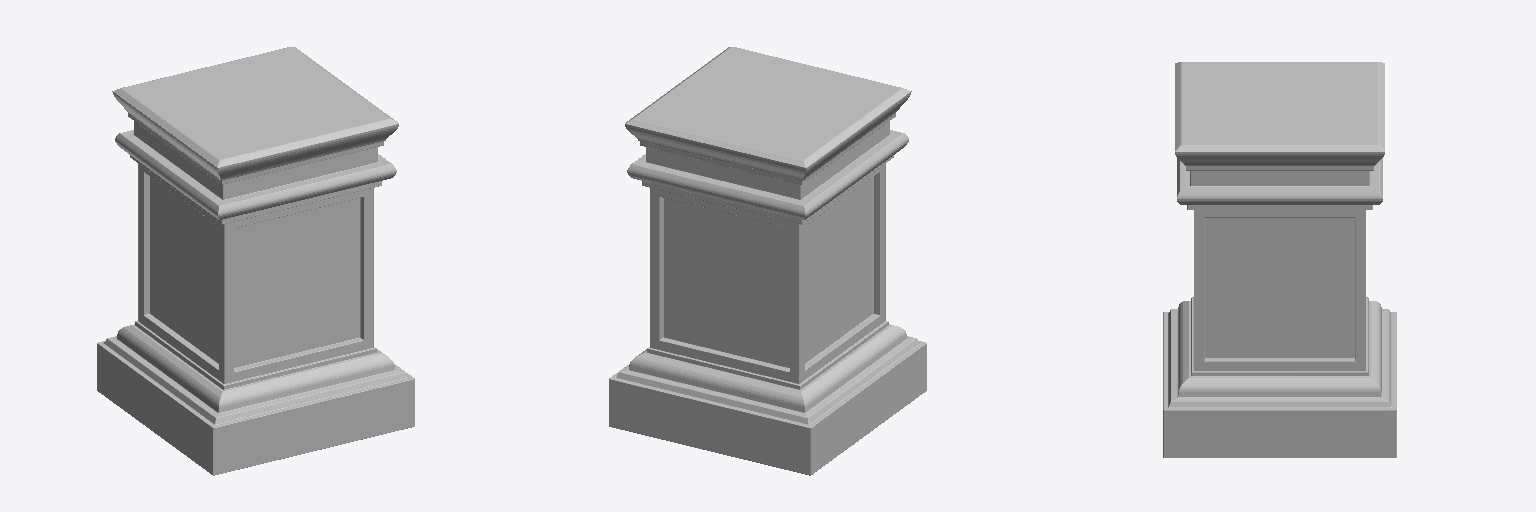
File: stand.obj
3 views of the same model, side by side, from view 1: azimuth 30°, elevation 25°; view 2: azimuth 150°, elevation 25°; view 3: azimuth 270°, elevation 25° (orthographic).
Parts seen in each view (by area): view 1: Pedestal; view 2: Pedestal; view 3: Pedestal.
Boxes of the visible parts, x1,y1,x2,y2 form: Pedestal: [97, 47, 414, 475]; Pedestal: [609, 47, 926, 475]; Pedestal: [1163, 62, 1396, 457].
Bounding box in the file's own units: 2 × 2.89 × 2.